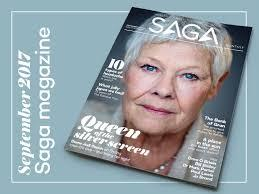Printing industry: (64, 0, 259, 194)
